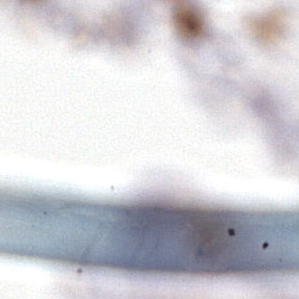Lymphocyte: (172, 9, 201, 36)
